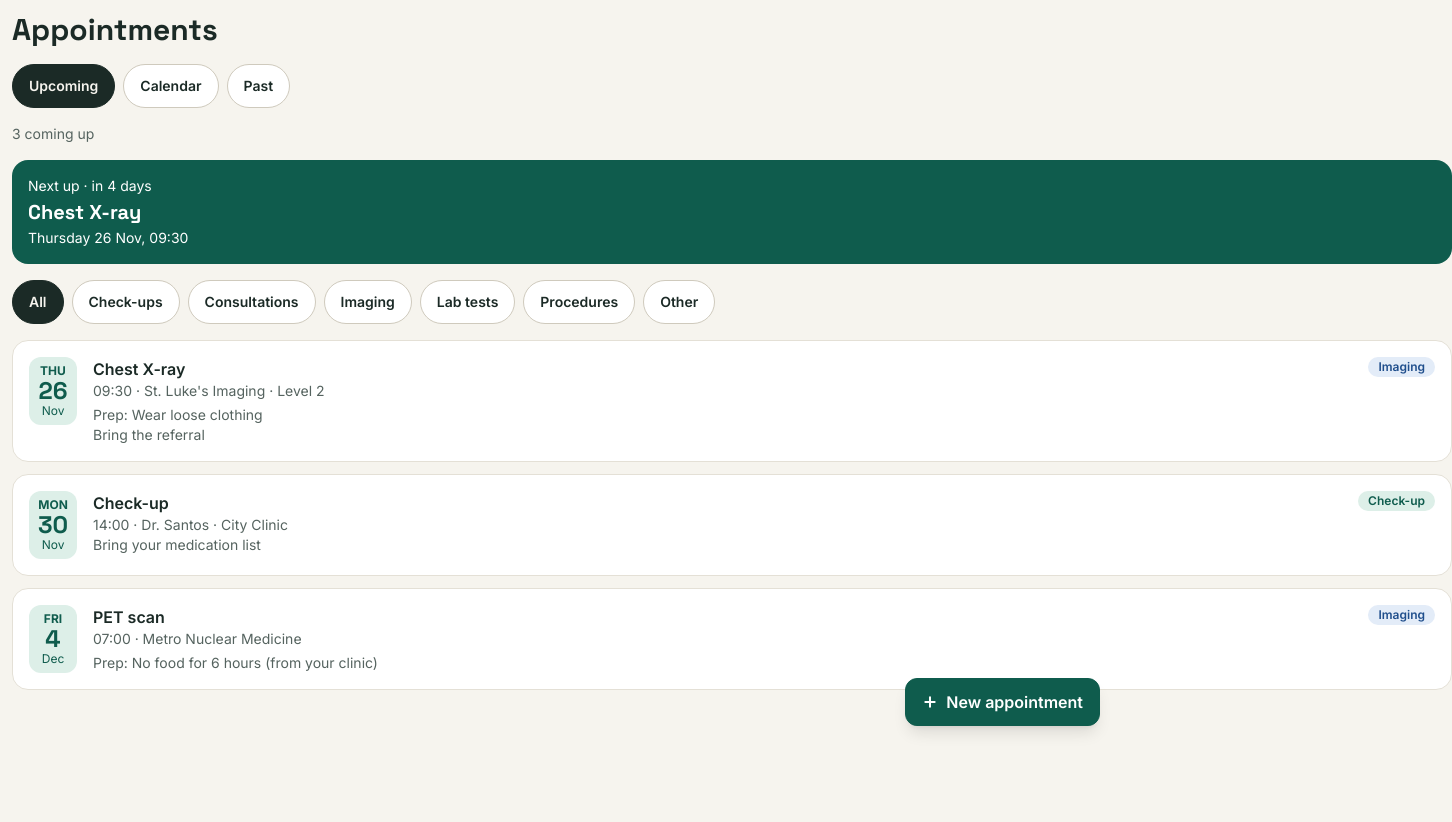
upcoming appointments › filters by type and drops the next-up card while filtered
Expected: the text "Next up · in 4 days" is shown, [28,177,152,194]
Click the button "Imaging" at (368, 302), box [324,280,412,324]
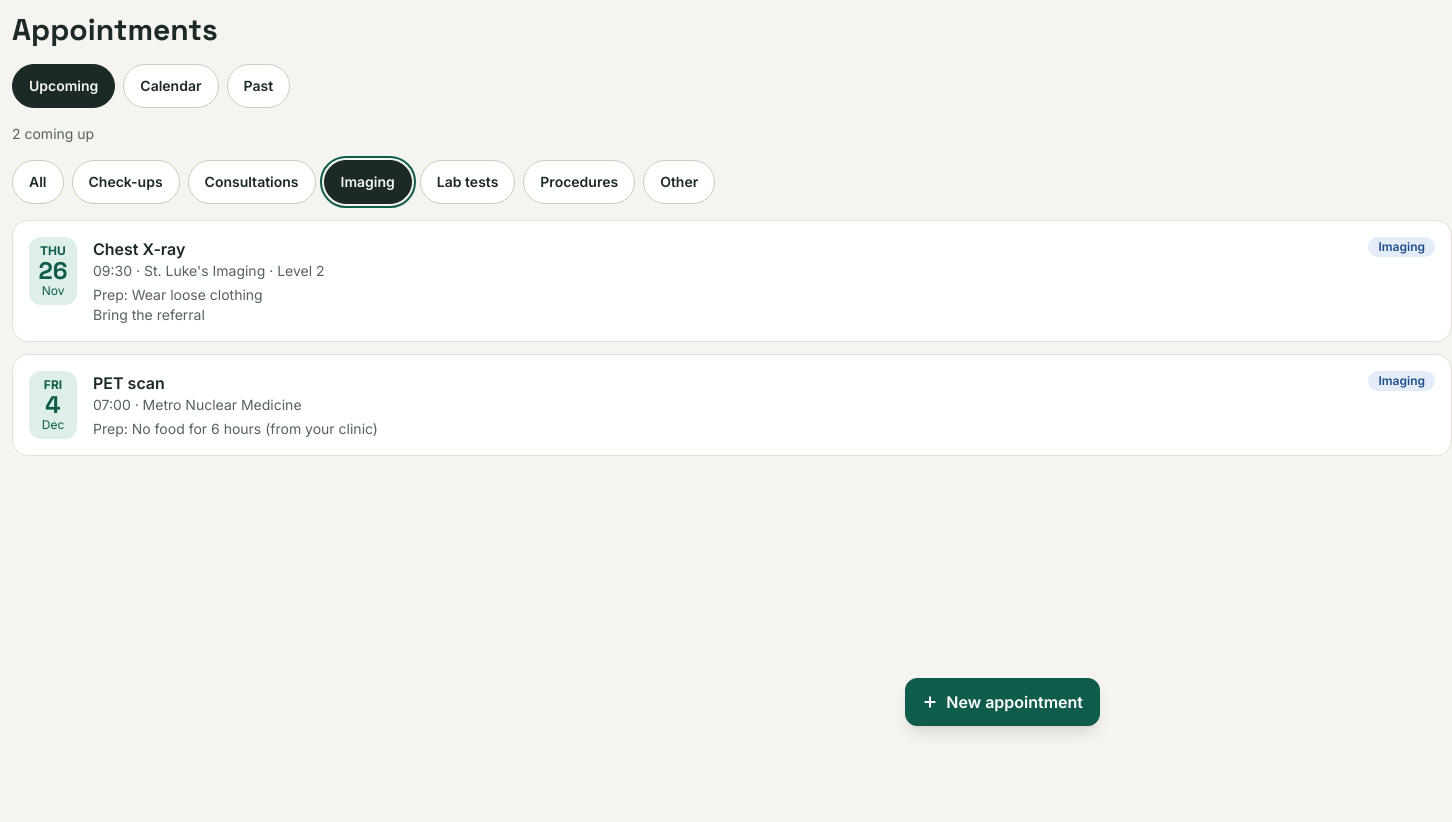
Expected: the button "Imaging" is shown, [324,160,412,204]
Expected: the text "2 coming up" is shown, [12,125,94,142]
Expected: the link "Next up" is gone
